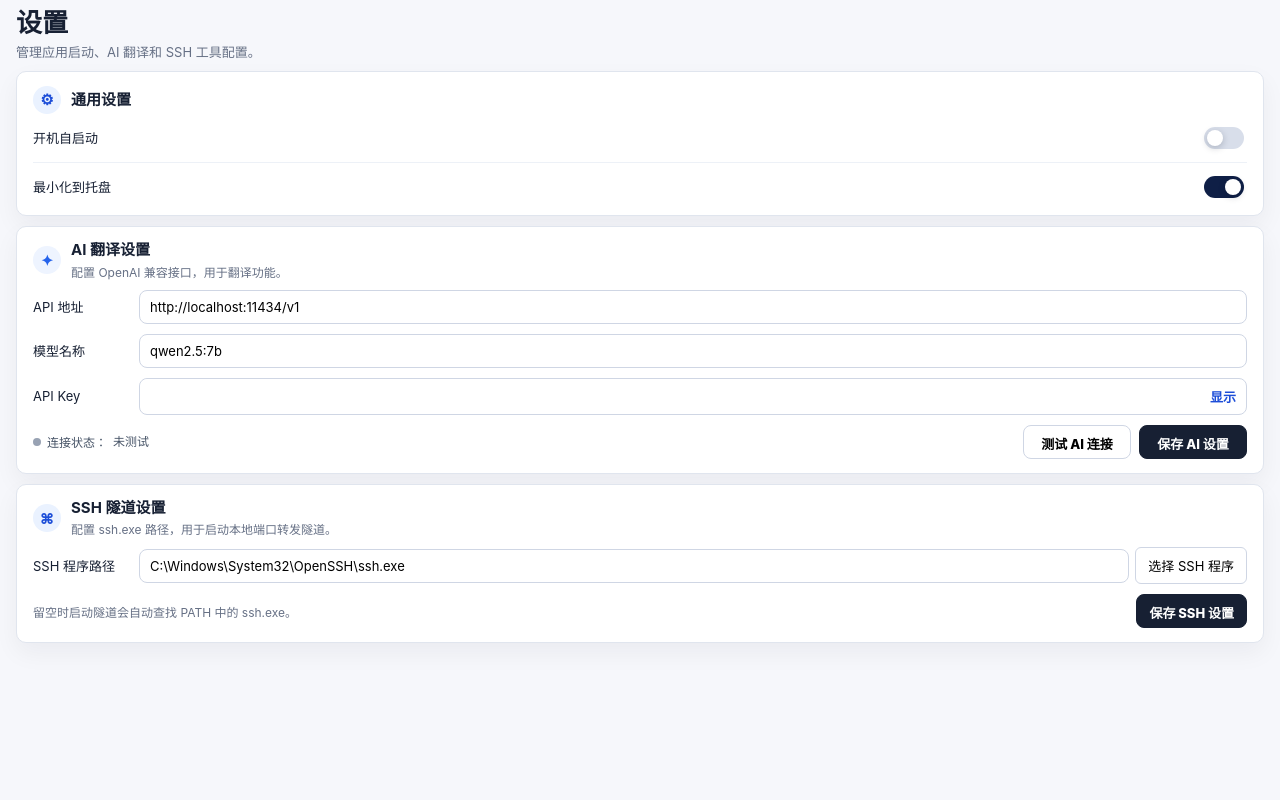
Test: can choose ssh executable from settings
Click the button "选择 SSH 程序". click: {"x": 1191, "y": 566}
box: [1135,547,1247,584]
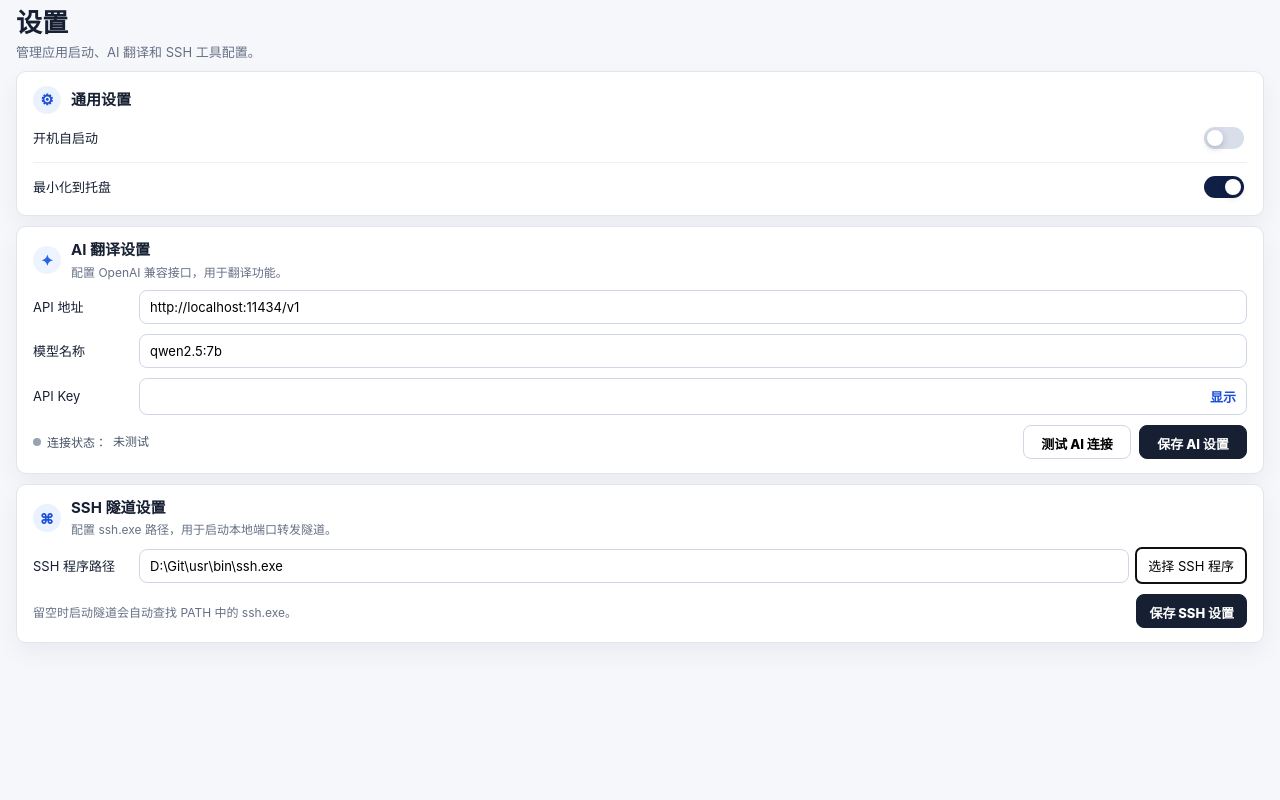
Now the field labelled "SSH 程序路径" holds "D:\\Git\\usr\\bin\\ssh.exe", box [139,549,1129,583]
